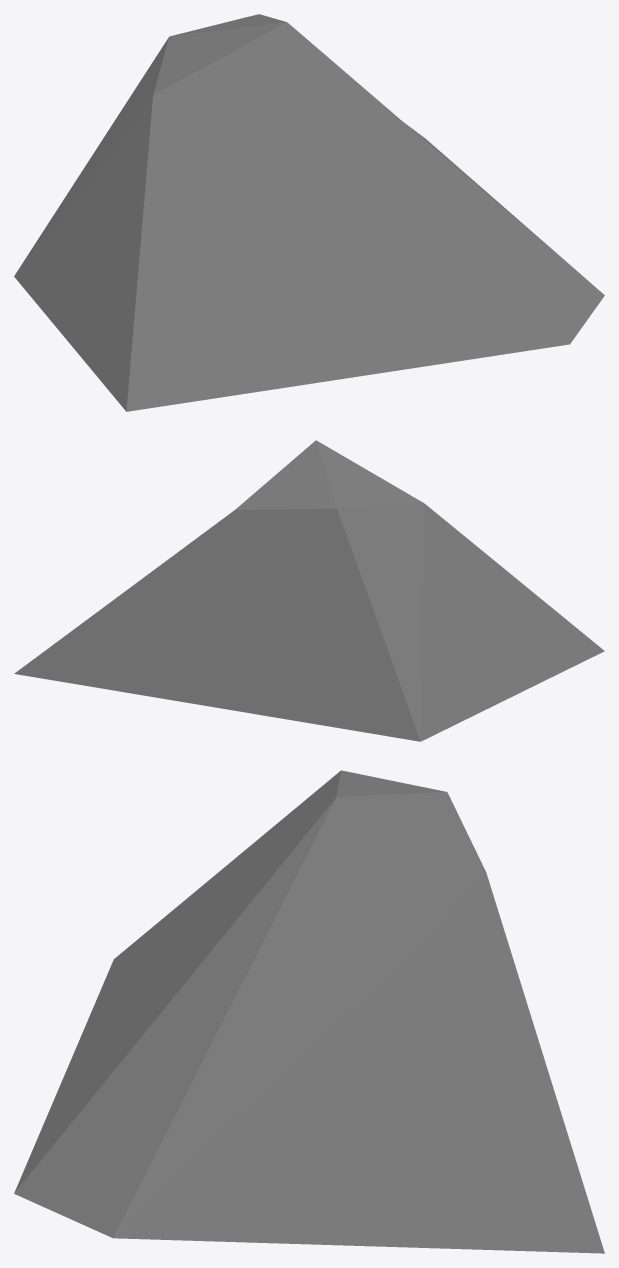
Rendered from object_48_lev1.glb.
3 views of the same model, one above another, from view 1: azimuth 30°, elevation 25°; view 2: azimuth 150°, elevation 25°; view 3: azimuth 270°, elevation 25° (orthographic). The views are drawn at different scales.
Parts seen in each view (by area): view 1: object_48_lev1; view 2: object_48_lev1; view 3: object_48_lev1.
Boxes of the visible parts, box(x1,y1,x2,y2) form: object_48_lev1: box(14, 14, 604, 411); object_48_lev1: box(14, 440, 604, 741); object_48_lev1: box(14, 770, 604, 1253).
Size of the model in its own units: 0.3503 by 0.1723 by 0.2972.
Materials: 1 (1 with a texture image).
